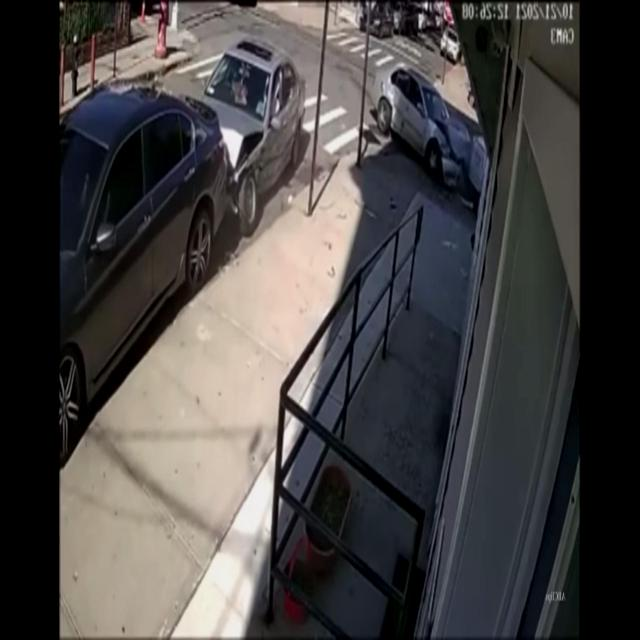accident: (188, 37, 304, 233), (378, 68, 487, 194)
